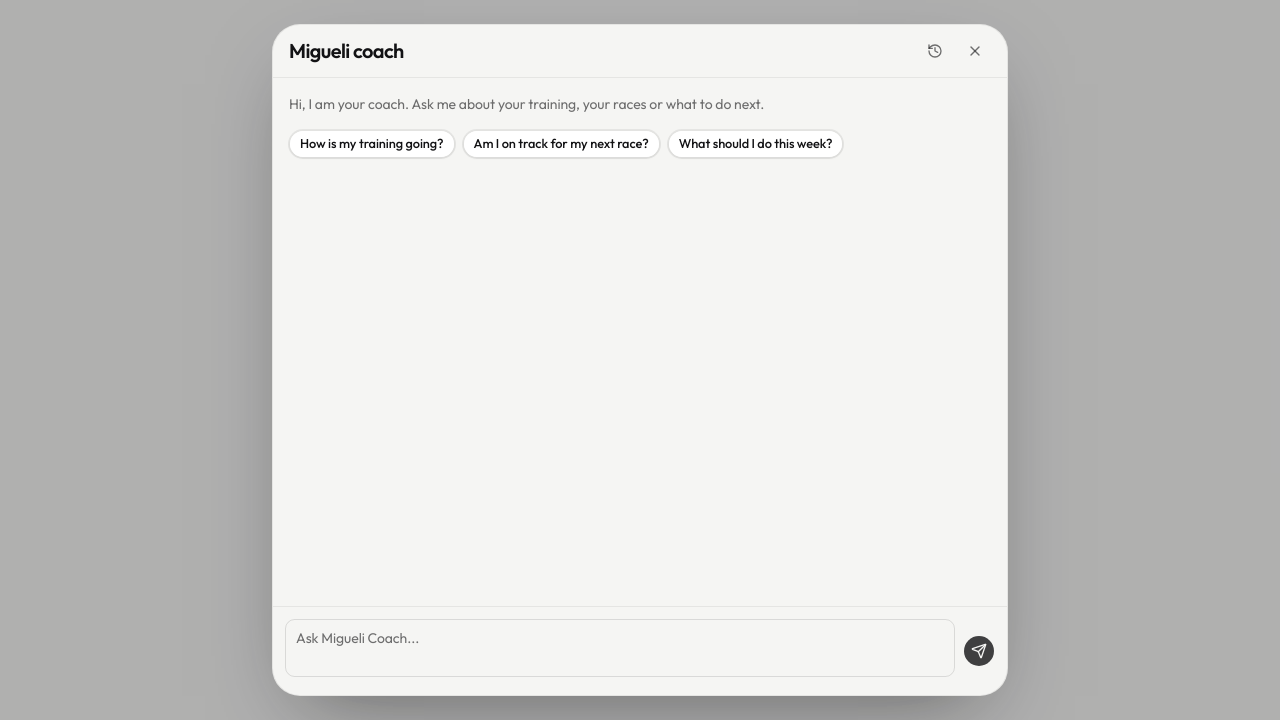
Test: CoachChatView › rate_limited toasts the busy message and hands the text back to send again
Type "same text" into the text box with test id "coach-input".
click(620, 648); type("same text")  # box [285,618,955,676]
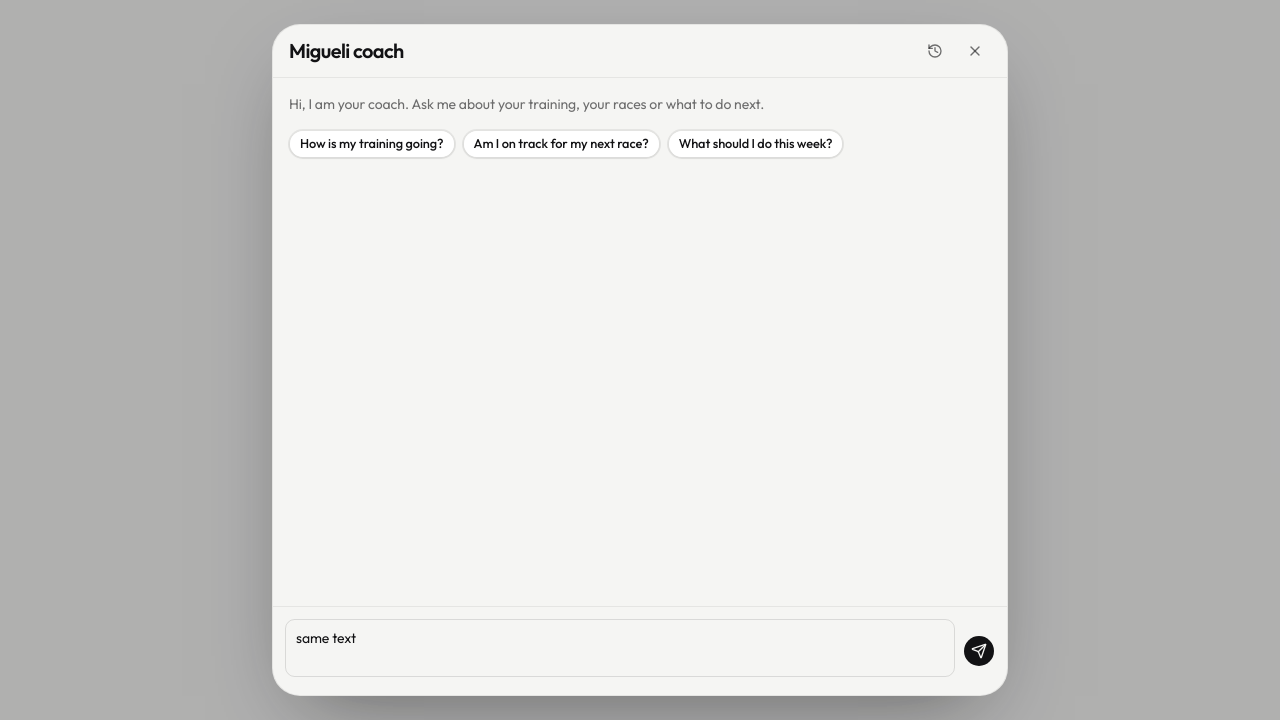
Click the button with test id "coach-send".
click(979, 651)  # box [963,635,995,667]
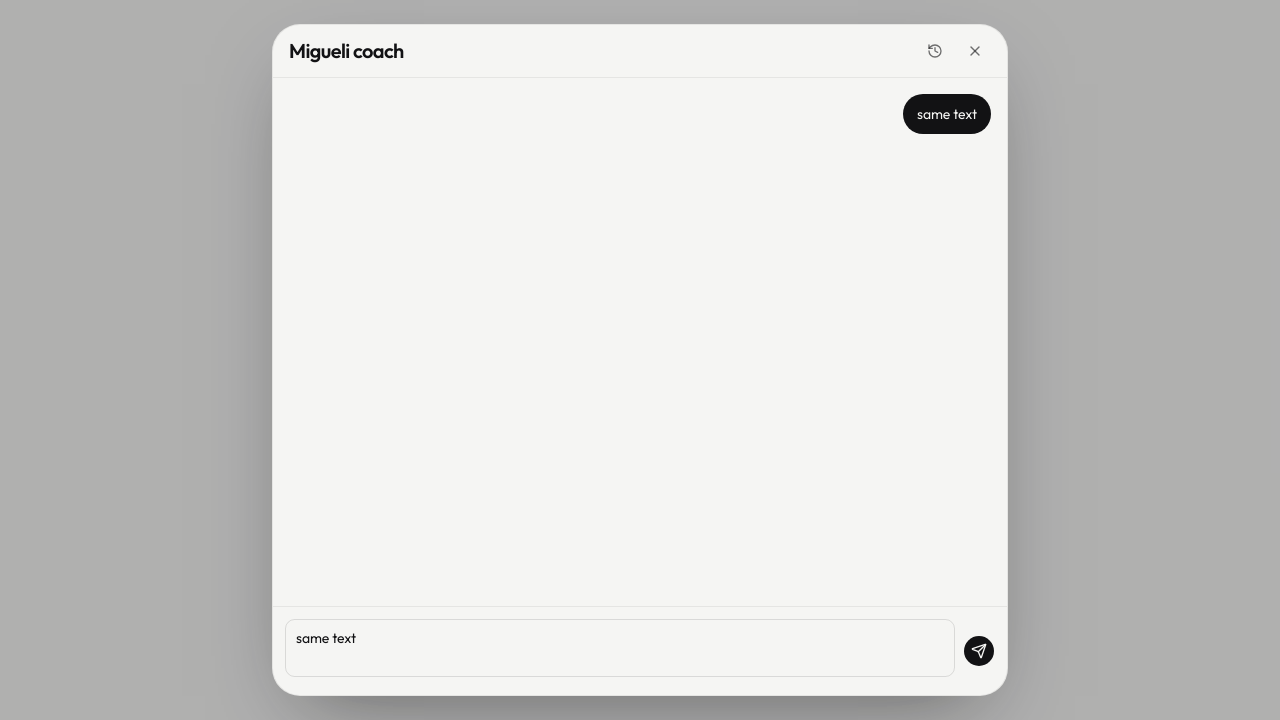
Click the button with test id "coach-send".
click(979, 651)  # box [963,635,995,667]
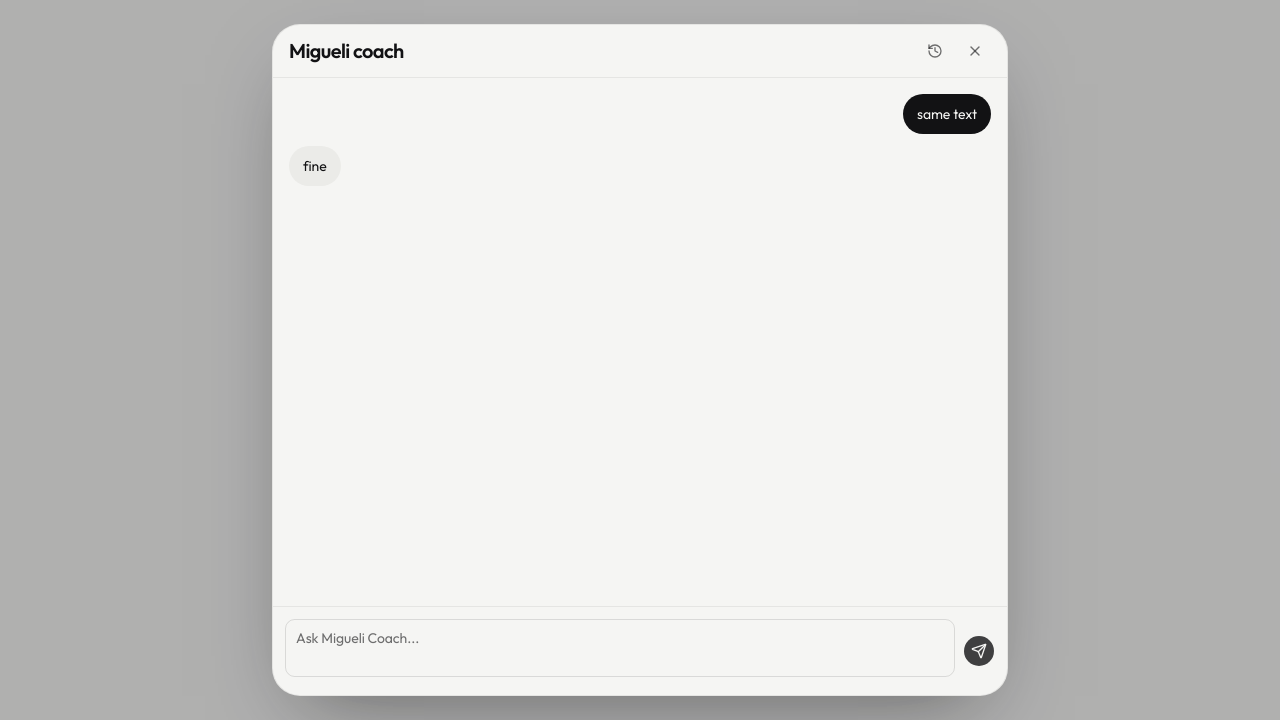
Expected: the text "same text" is shown, [917,104,977,124]
Expected: the number of elements with test id "coach-message-user" is 1, [903,94,991,134]
Expected: the element with test id "coach-message-assistant" reads "fine", [303,157,327,175]
